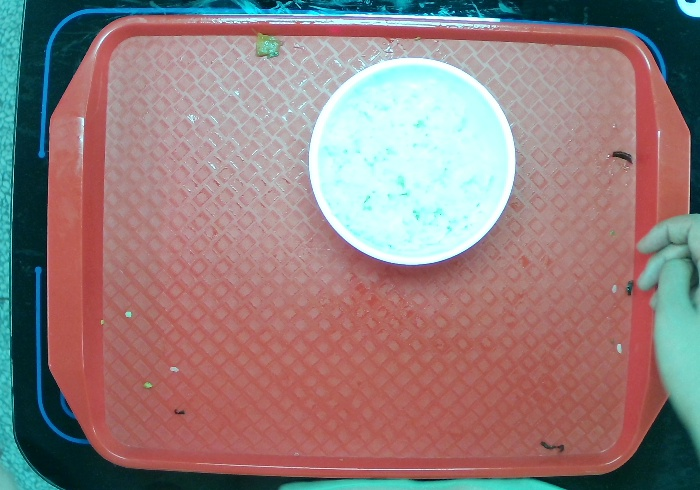YKMZ-Fan_Wan: (307, 56, 519, 269)
